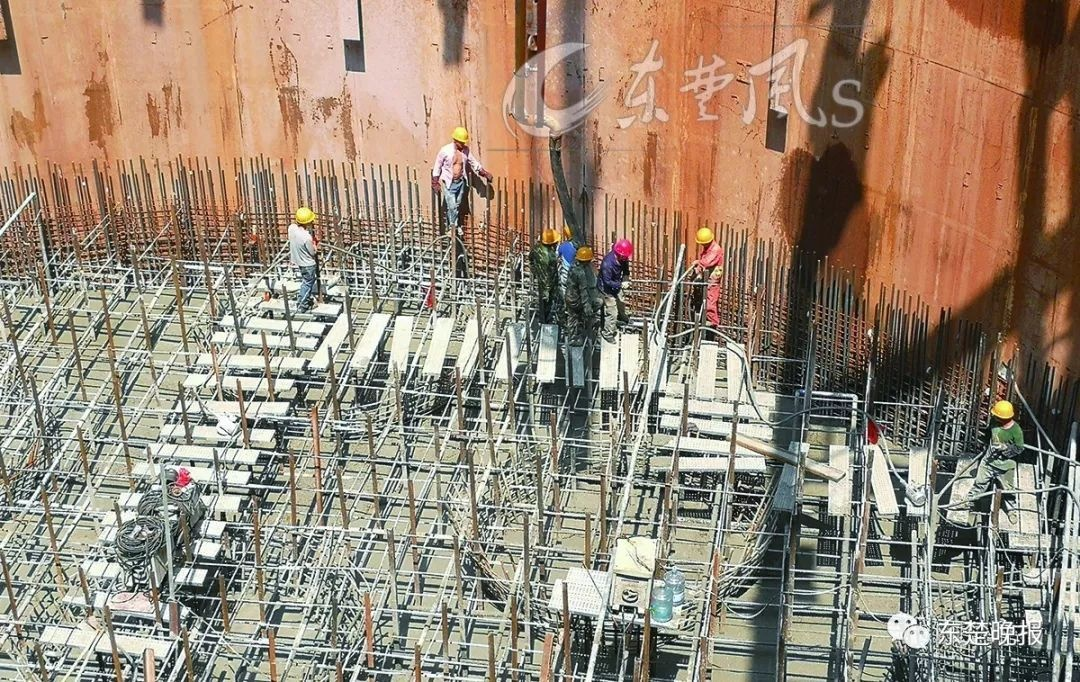red: (612, 238, 633, 262)
yellow: (991, 399, 1015, 428), (294, 206, 315, 228), (451, 127, 470, 150), (694, 226, 713, 248), (541, 228, 560, 250), (574, 248, 592, 267)
